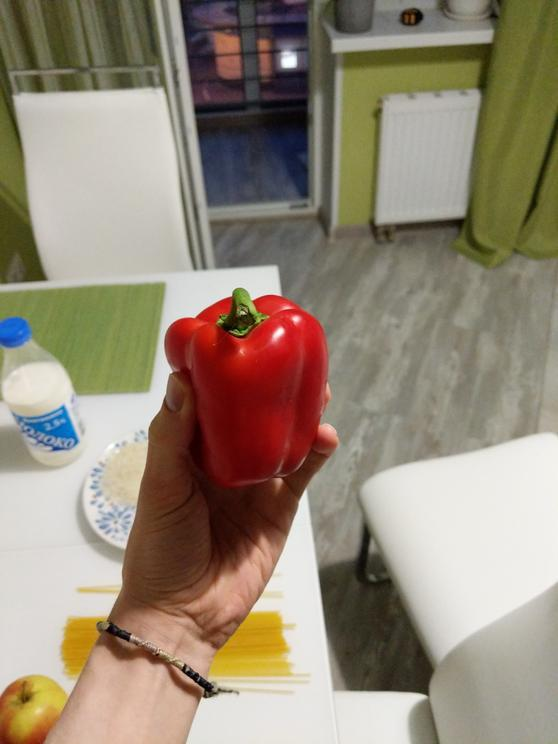milk: (1, 317, 89, 480)
pepper: (164, 285, 325, 491)
rice: (97, 431, 151, 517)
spaghetti: (216, 598, 299, 690), (54, 591, 107, 681)
